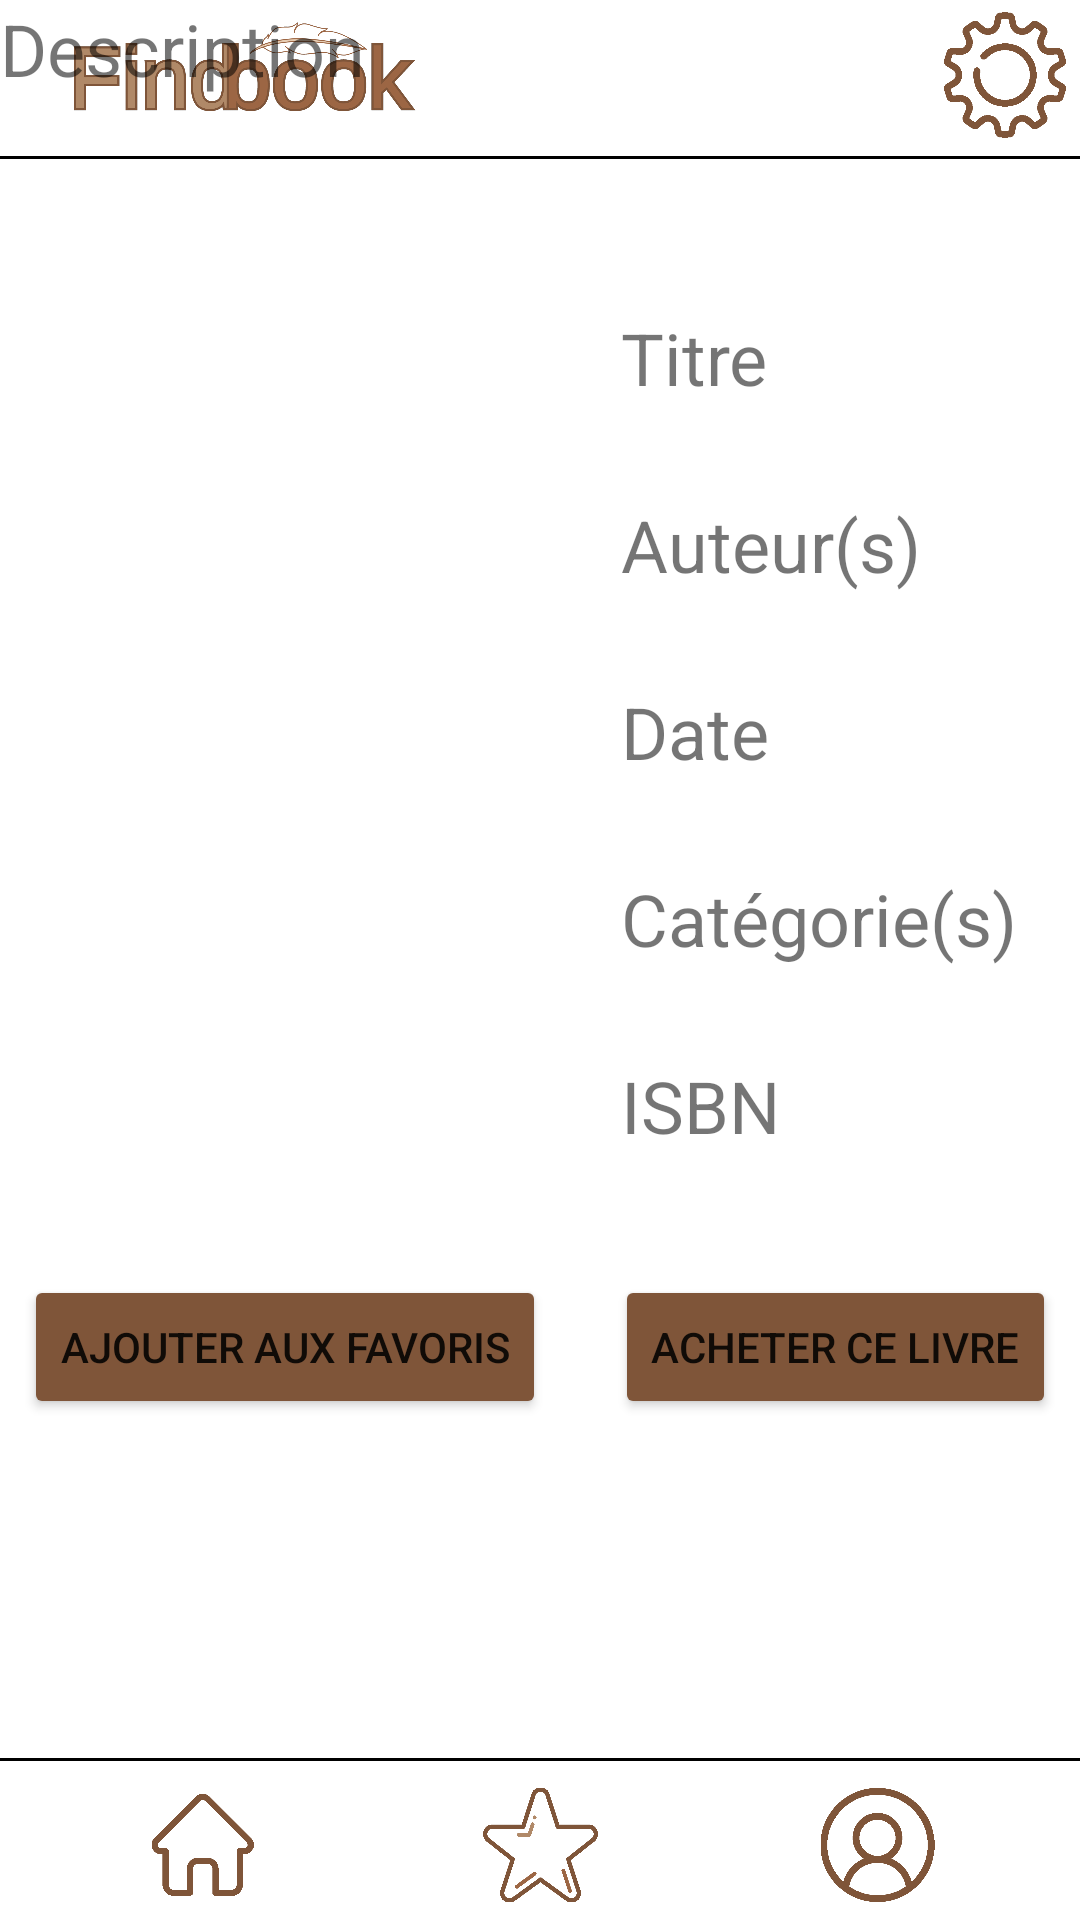

Icon bounding boxes for this 1080px×1920px phone screenshot, format {"left": x1, "top": y1, "right": x2, "bottom": y2}:
favoris: {"left": 483, "top": 1788, "right": 598, "bottom": 1902}
home: {"left": 152, "top": 1794, "right": 254, "bottom": 1896}
mon compte: {"left": 821, "top": 1788, "right": 935, "bottom": 1902}
parametre: {"left": 944, "top": 12, "right": 1066, "bottom": 138}
